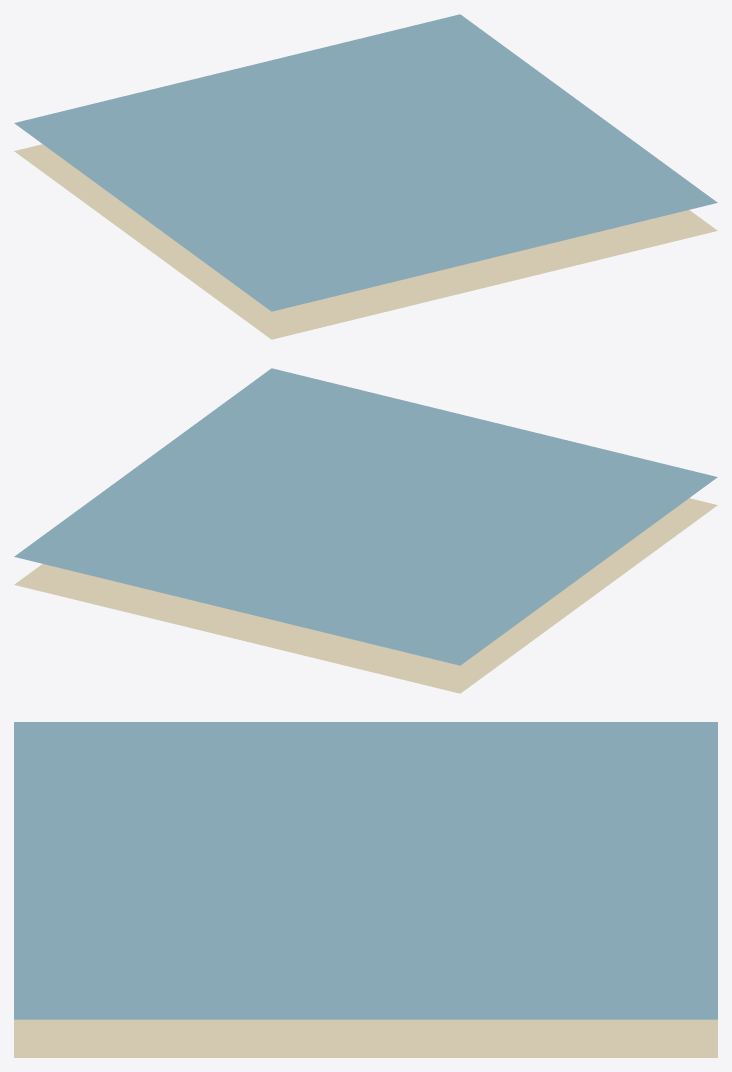
File: Tile_25_ShallowWater_Sand.glb
The picture shows the model from 3 angles, top to bottom: view 1: azimuth 30°, elevation 25°; view 2: azimuth 150°, elevation 25°; view 3: azimuth 270°, elevation 25°; orthographic projection. The views are drawn at different scales.
Parts seen in each view (by area): view 1: Tile_ShallowWater_Sand_Water, Tile_ShallowWater_Sand_Sand; view 2: Tile_ShallowWater_Sand_Water, Tile_ShallowWater_Sand_Sand; view 3: Tile_ShallowWater_Sand_Water, Tile_ShallowWater_Sand_Sand.
Boxes of the visible parts, left/top/right/bottom form: Tile_ShallowWater_Sand_Water: left=14, top=14, right=717, bottom=311; Tile_ShallowWater_Sand_Sand: left=14, top=144, right=717, bottom=339; Tile_ShallowWater_Sand_Water: left=14, top=368, right=717, bottom=665; Tile_ShallowWater_Sand_Sand: left=14, top=498, right=717, bottom=693; Tile_ShallowWater_Sand_Water: left=14, top=722, right=717, bottom=1019; Tile_ShallowWater_Sand_Sand: left=14, top=1019, right=717, bottom=1057.
Bounding box in the file's own units: 0.2 × 0.012 × 0.2.
